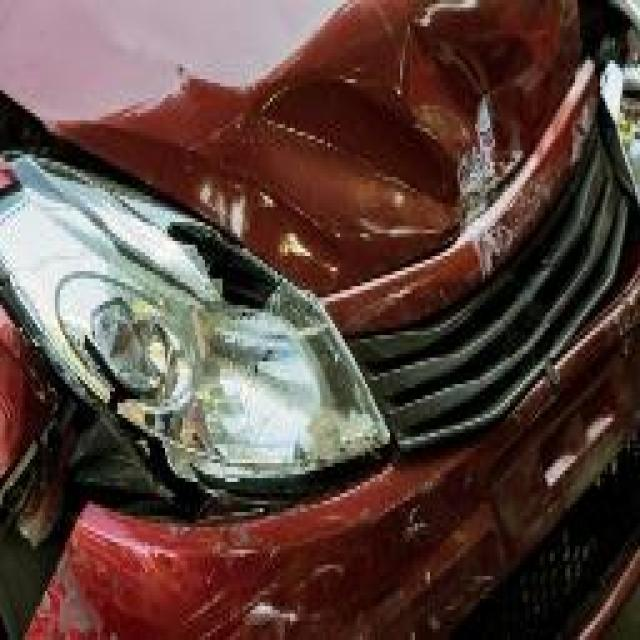Bonnet: (0, 0, 589, 299)
Bumper: (0, 61, 640, 640)
Light: (0, 144, 392, 520)
